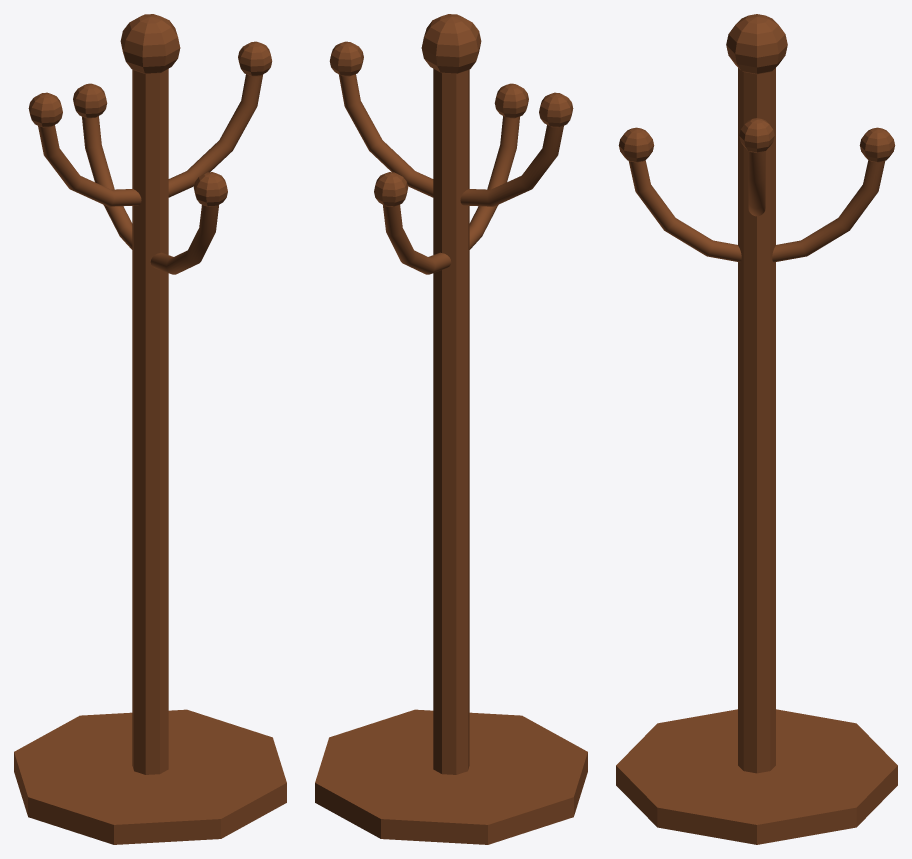
Rendered from hanger.glb.
3 views of the same model, side by side, from view 1: azimuth 30°, elevation 25°; view 2: azimuth 150°, elevation 25°; view 3: azimuth 270°, elevation 25° (orthographic).
Visible parts, largest first — view 1: hat_hanger; view 2: hat_hanger; view 3: hat_hanger.
Boxes of the visible parts, bbox=[...] form: hat_hanger: bbox=[14, 14, 286, 844]; hat_hanger: bbox=[315, 14, 587, 844]; hat_hanger: bbox=[616, 14, 897, 844].
Bounding box in the file's own units: 0.0229 × 0.0689 × 0.0229.
